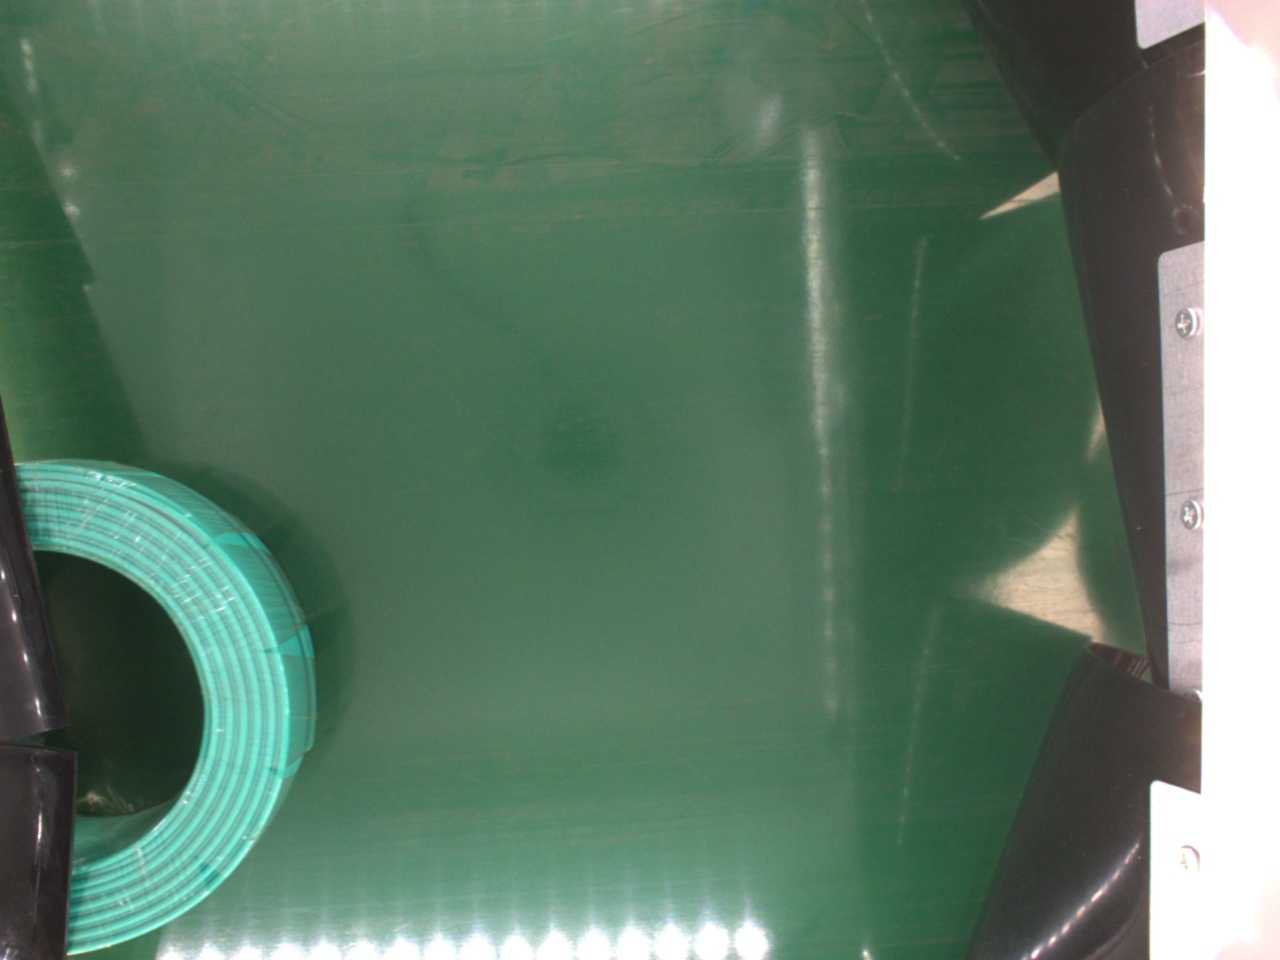green: (14, 460, 314, 955)
